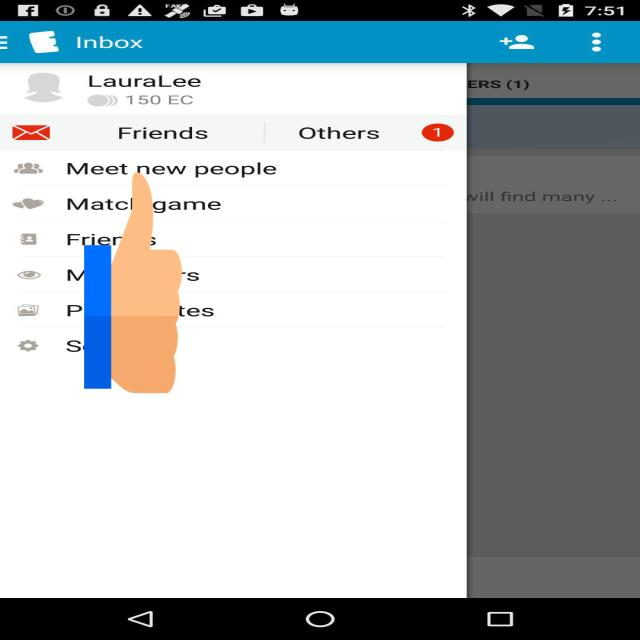privacy zuckering: (84, 166, 182, 398)
